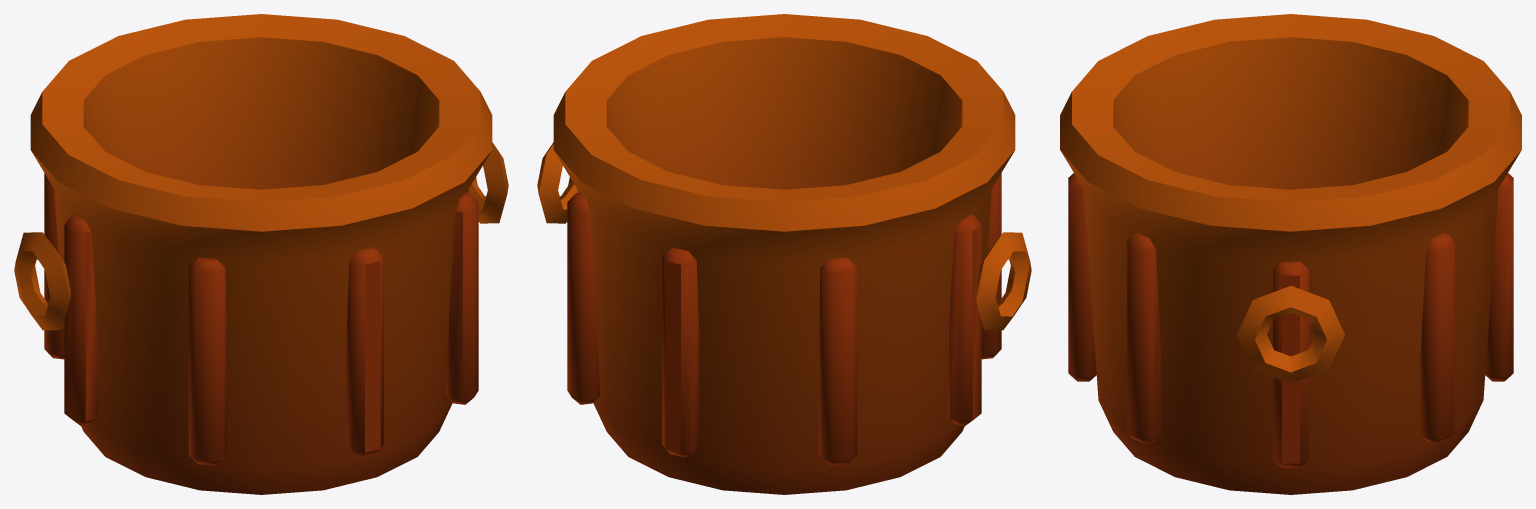
File: Alet_Havan.fbx
The picture shows the model from 3 angles, left to right: view 1: azimuth 30°, elevation 25°; view 2: azimuth 150°, elevation 25°; view 3: azimuth 270°, elevation 25°; orthographic projection.
Visible parts, largest first — view 1: Alet_Havan_Model; view 2: Alet_Havan_Model; view 3: Alet_Havan_Model.
Boxes of the visible parts, box(x1,y1,x2,y2) form: Alet_Havan_Model: box(14, 14, 508, 494); Alet_Havan_Model: box(537, 14, 1031, 494); Alet_Havan_Model: box(1060, 14, 1521, 494).
Size of the model in its own units: 0.1496 by 0.0969 by 0.1306.
